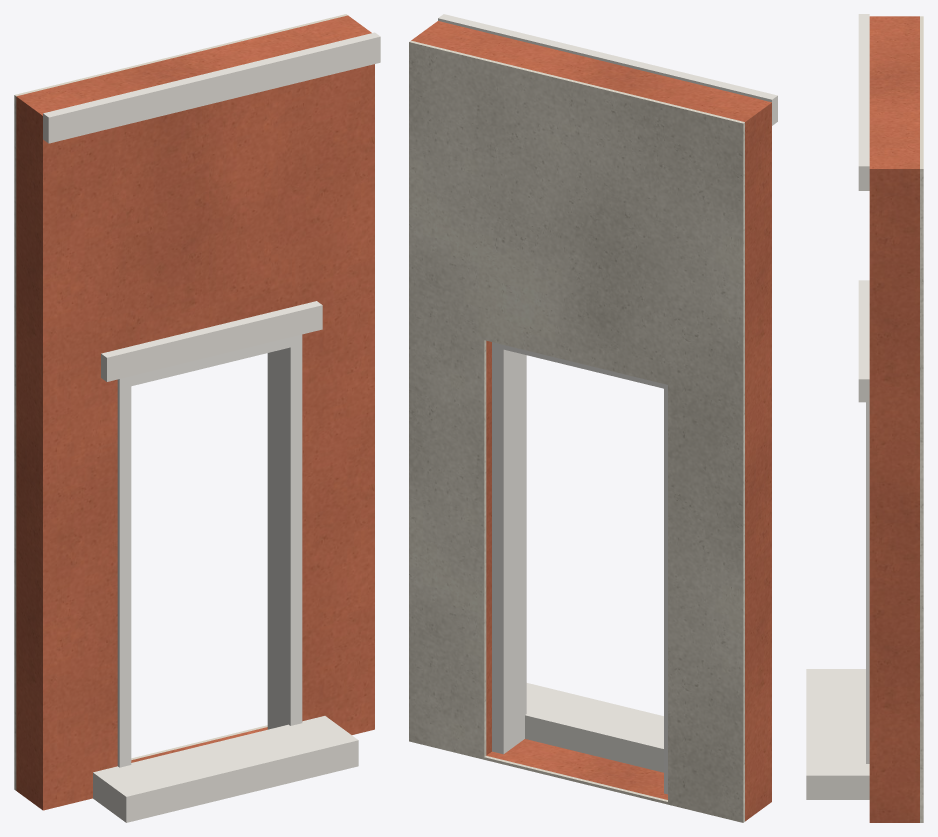
Rendered from wall_render_shop_door.glb.
3 views of the same model, side by side, from view 1: azimuth 30°, elevation 25°; view 2: azimuth 150°, elevation 25°; view 3: azimuth 270°, elevation 25° (orthographic). The views are drawn at different scales.
Parts seen in each view (by area): view 1: wall_render_shop_door_render, wall_render_shop_door_trim, wall_render_shop_door_frame, wall_render_shop_door_plaster; view 2: wall_render_shop_door_plaster, wall_render_shop_door_render, wall_render_shop_door_frame, wall_render_shop_door_trim; view 3: wall_render_shop_door_render, wall_render_shop_door_trim, wall_render_shop_door_plaster, wall_render_shop_door_frame.
Part boxes in pixels (left/top/right/bottom): wall_render_shop_door_render: left=16, top=15, right=374, bottom=810; wall_render_shop_door_trim: left=43, top=32, right=380, bottom=822; wall_render_shop_door_frame: left=117, top=334, right=302, bottom=767; wall_render_shop_door_plaster: left=14, top=14, right=347, bottom=790; wall_render_shop_door_plaster: left=409, top=40, right=744, bottom=822; wall_render_shop_door_render: left=411, top=21, right=771, bottom=821; wall_render_shop_door_frame: left=492, top=342, right=667, bottom=794; wall_render_shop_door_trim: left=438, top=14, right=777, bottom=772; wall_render_shop_door_render: left=869, top=16, right=919, bottom=822; wall_render_shop_door_trim: left=806, top=14, right=869, bottom=799; wall_render_shop_door_plaster: left=920, top=16, right=923, bottom=822; wall_render_shop_door_frame: left=866, top=402, right=869, bottom=763.
Size of the model in its own units: 2 by 4.01 by 0.65.
Materials: 4 (2 with a texture image).
